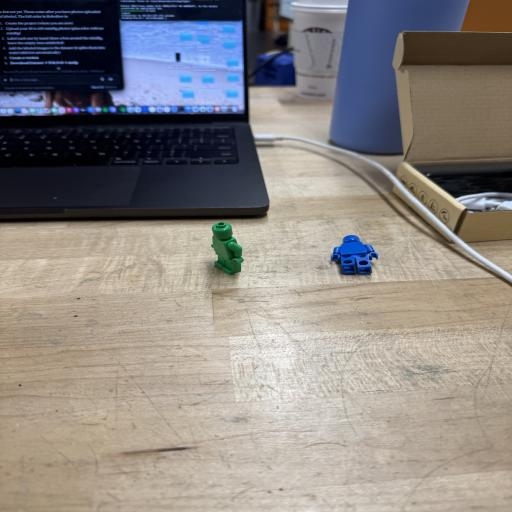blue-minifig: (331, 235, 378, 274)
green-minifig: (211, 222, 244, 275)
